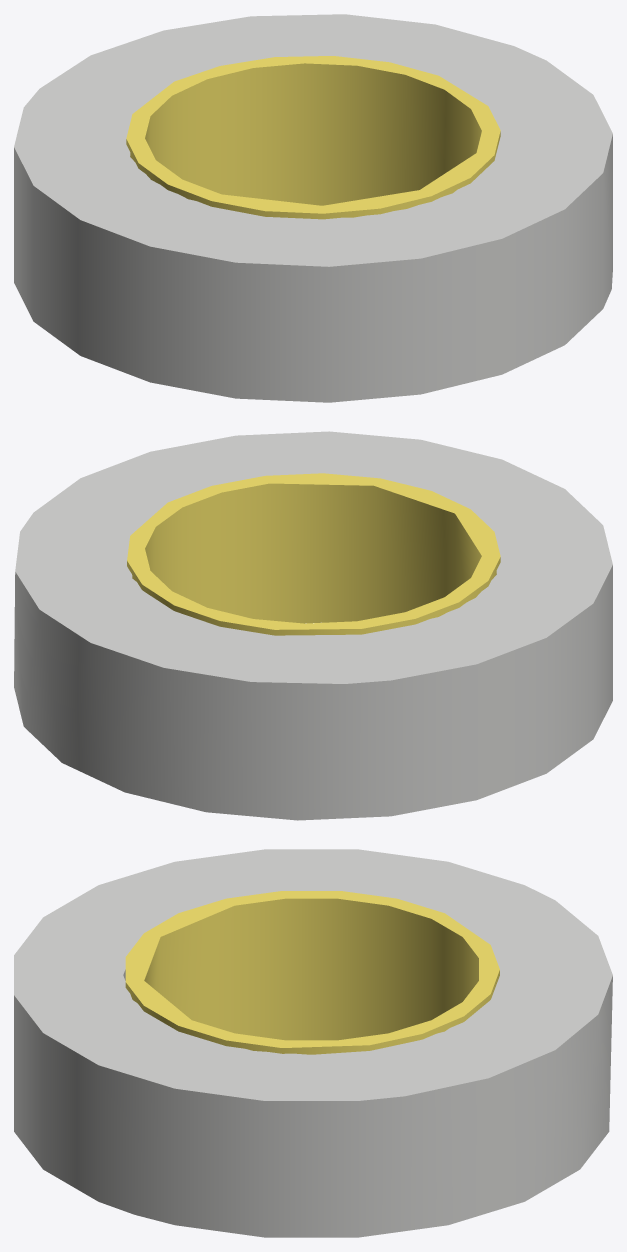
Rendered from HID-INS-002_lod1.glb.
The picture shows the model from 3 angles, top to bottom: view 1: azimuth 30°, elevation 25°; view 2: azimuth 150°, elevation 25°; view 3: azimuth 270°, elevation 25°; orthographic projection.
Visible parts, largest first — view 1: HID-INS-002_fita, HID-INS-002_nucleo; view 2: HID-INS-002_fita, HID-INS-002_nucleo; view 3: HID-INS-002_fita, HID-INS-002_nucleo.
Part boxes in pixels (x1,y1,x2,y2): HID-INS-002_fita: (14, 14, 612, 402); HID-INS-002_nucleo: (126, 56, 500, 219); HID-INS-002_fita: (14, 431, 612, 820); HID-INS-002_nucleo: (127, 473, 500, 635); HID-INS-002_fita: (14, 849, 612, 1237); HID-INS-002_nucleo: (125, 891, 499, 1054).
Bounding box in the file's own units: 0.0474 × 0.0125 × 0.0477.
